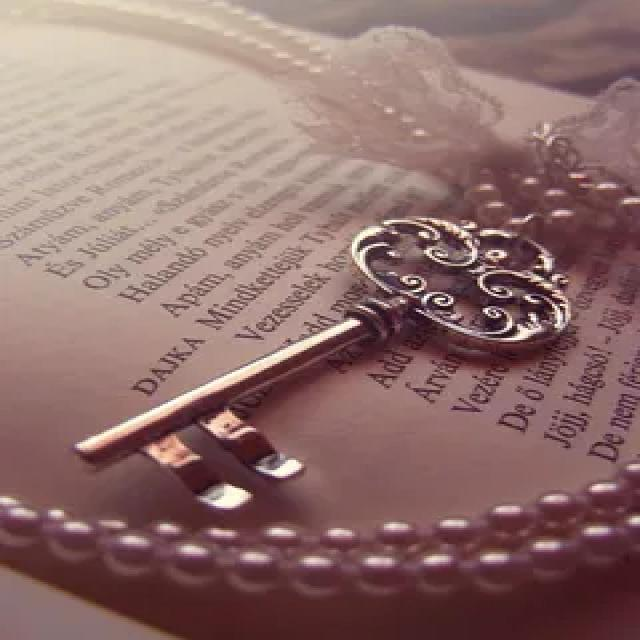key: (51, 200, 589, 518)
